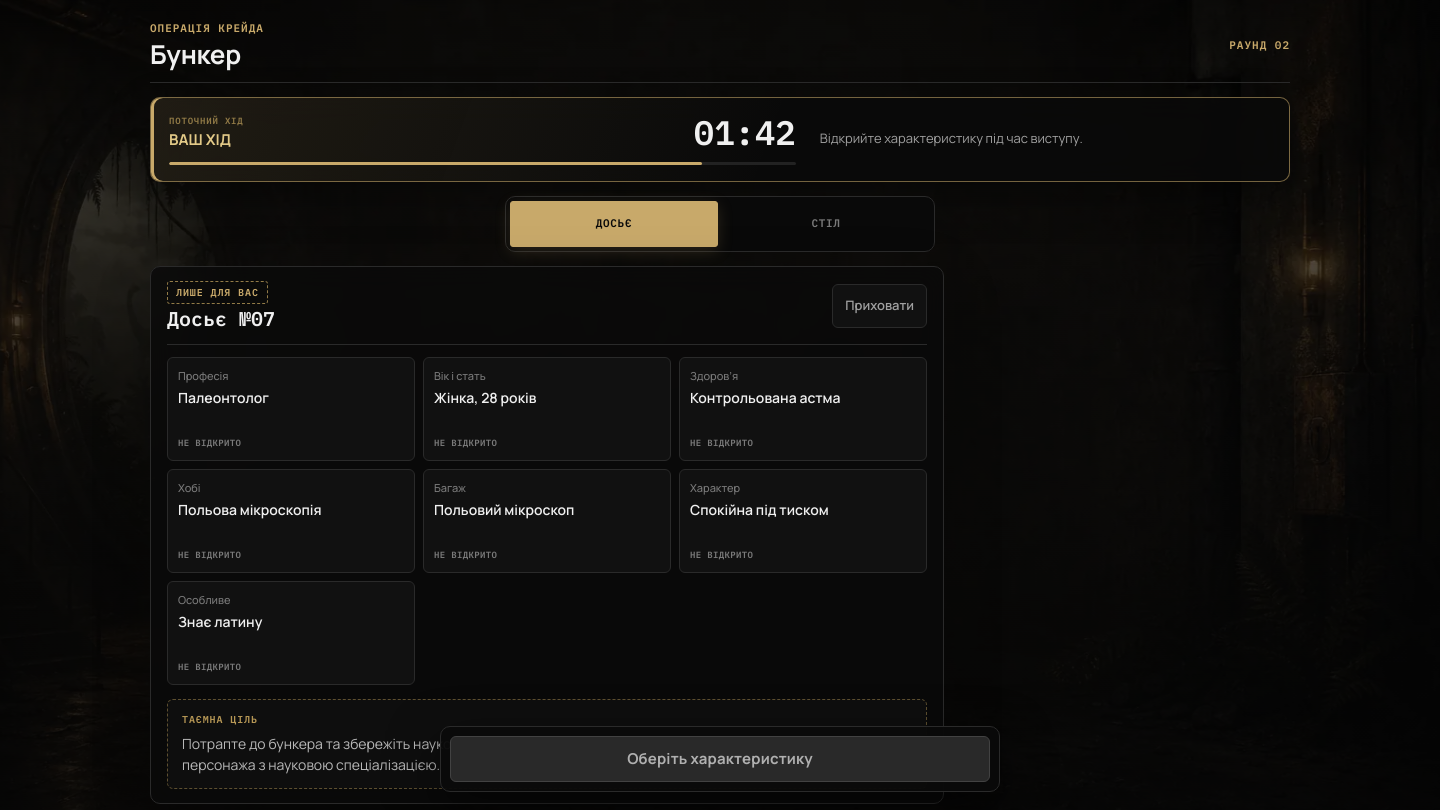
Test: App interactions › describes private values as not publicly revealed and marks the selection
Click the button "Характер Спокійна під тиском НЕ ВІДКРИТО" at (803, 521), box [679, 469, 927, 573]
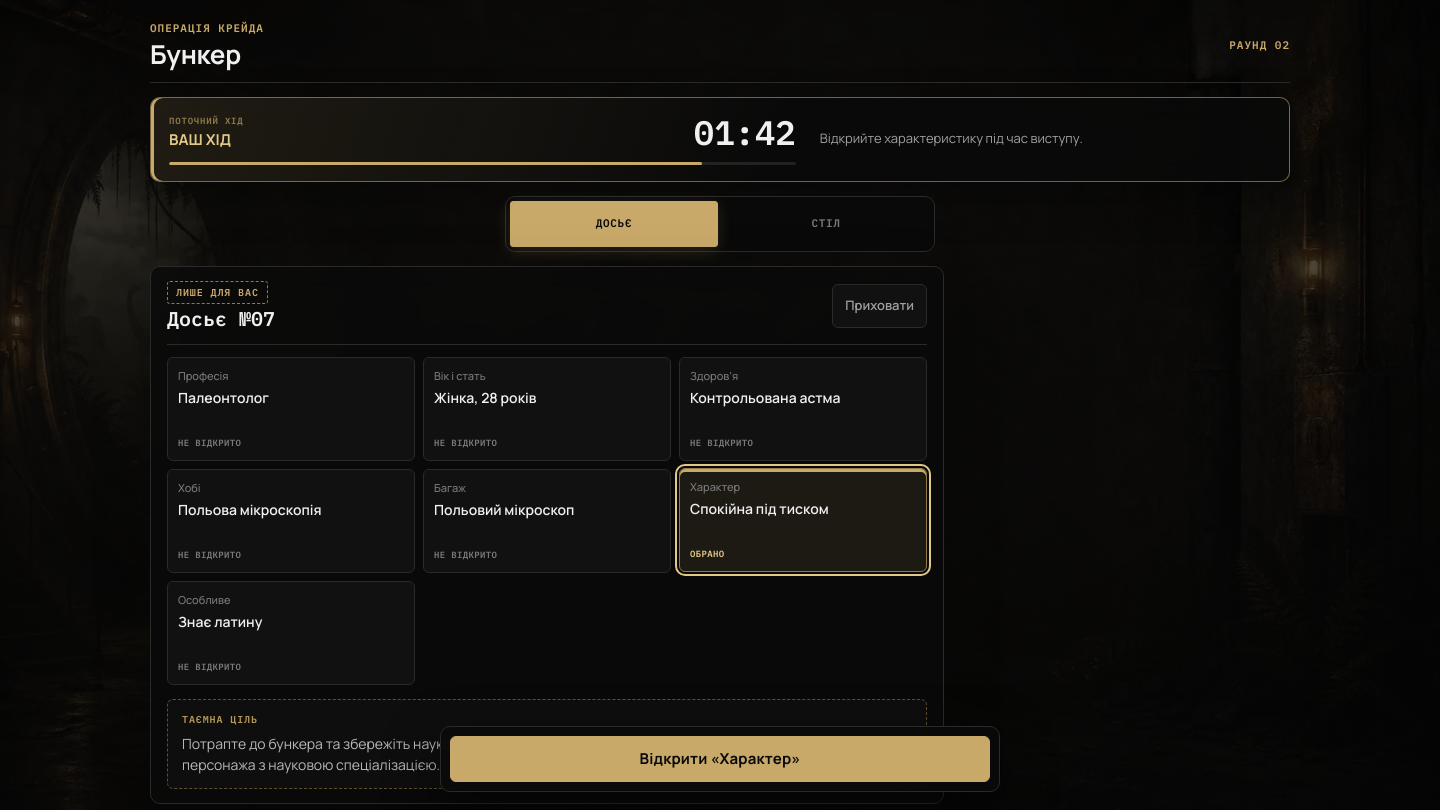
Expected: the text "НЕ ВІДКРИТО" is shown 6 times, [178, 436, 241, 450]; [434, 436, 497, 450]; [690, 436, 753, 450]; [178, 548, 241, 562]; [434, 548, 497, 562]; [178, 660, 241, 674]
Result: the text "ОБРАНО" is shown at [690, 547, 725, 561]
